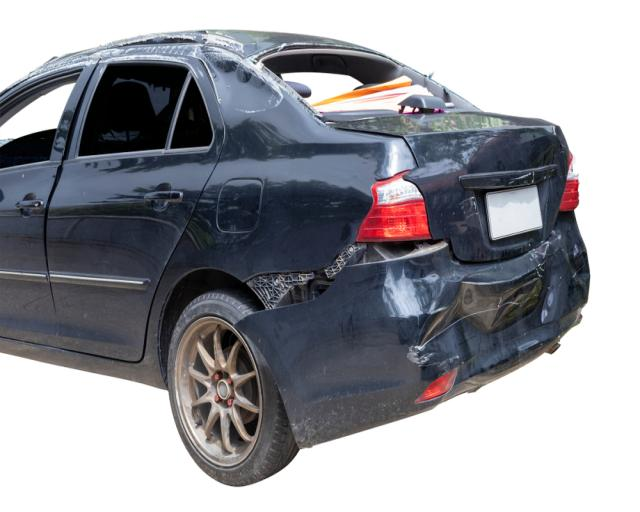crack: (113, 37, 199, 49)
dent: (400, 235, 590, 375), (196, 46, 282, 112)
scratch: (20, 44, 196, 83)
